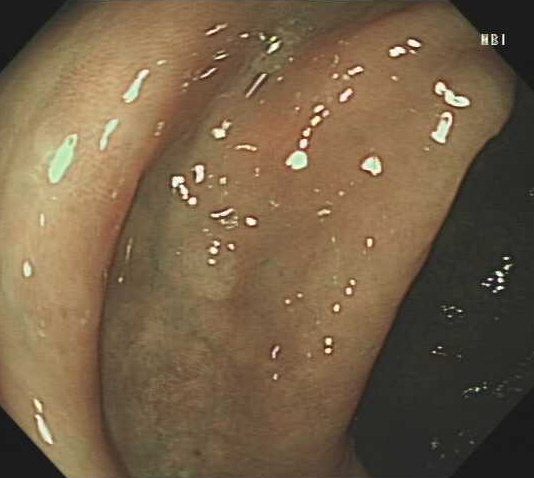others: (159, 236, 241, 304)
